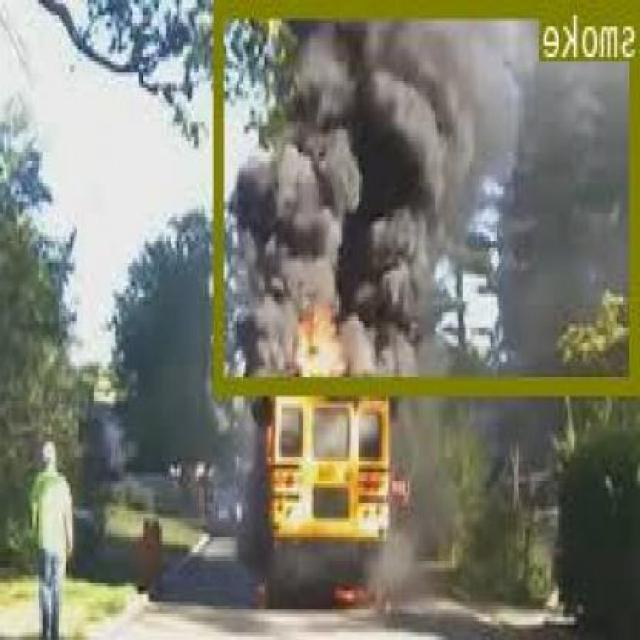Smoke: (215, 0, 640, 389)
